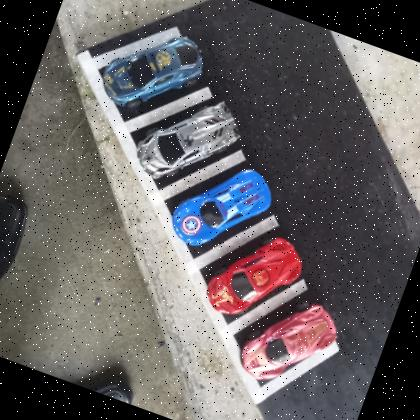Car: (129, 80, 249, 201), (95, 14, 212, 130), (166, 150, 281, 268), (236, 286, 346, 400), (200, 220, 310, 333)
